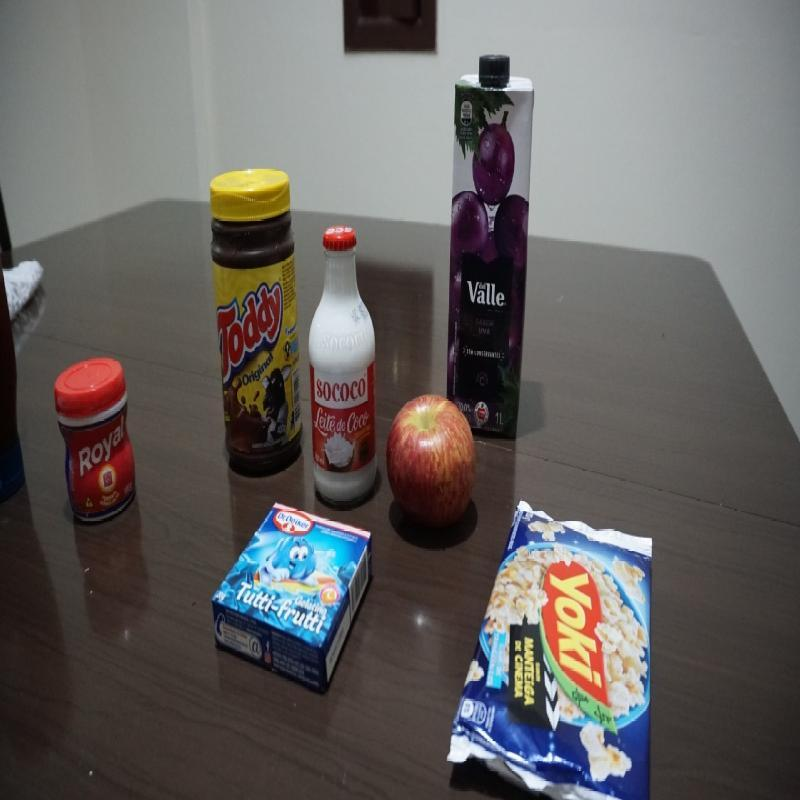Apple: (382, 392, 478, 531)
Chocolate Powder: (208, 168, 306, 474)
Coconut Milk: (308, 222, 380, 506)
Gelatine: (210, 500, 373, 691)
Popcorn: (448, 498, 653, 796)
Yeast: (51, 355, 140, 527)
